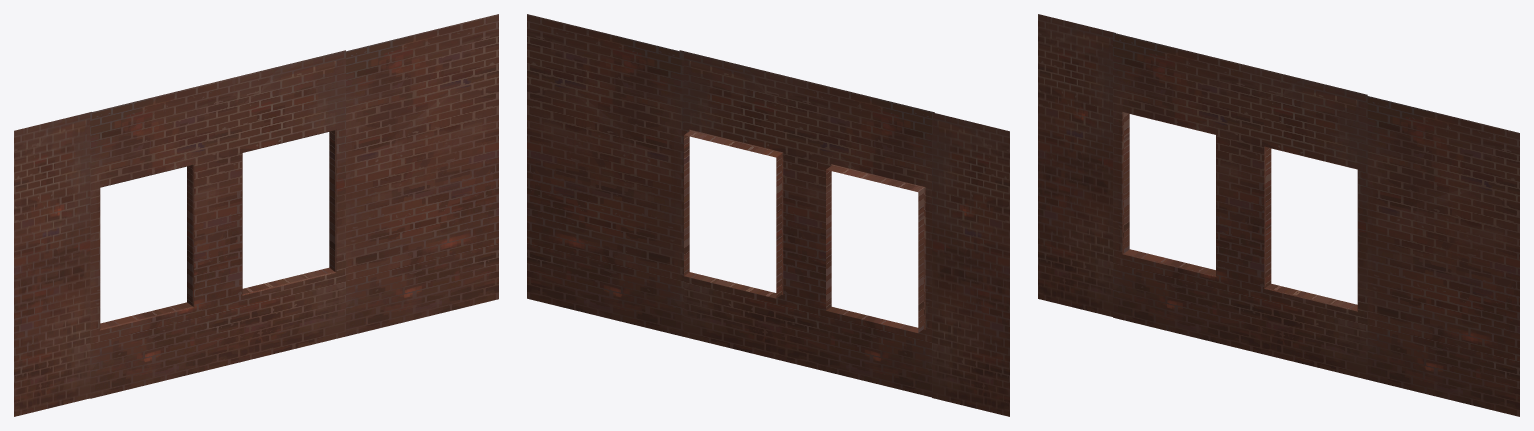
File: Muro_Fre.obj
3 renders of one model, left to right at view 1: azimuth 30°, elevation 25°; view 2: azimuth 150°, elevation 25°; view 3: azimuth 330°, elevation 25°, orthographic.
Parts seen in each view (by area): view 1: Muro_Fre; view 2: Muro_Fre; view 3: Muro_Fre.
Part boxes in pixels (left/top/right/bottom): Muro_Fre: left=14, top=14, right=498, bottom=416; Muro_Fre: left=527, top=14, right=1009, bottom=416; Muro_Fre: left=1038, top=14, right=1519, bottom=416.
Bounding box in the file's own units: 5.6 × 3.16 × 0.1233.
1 material, 1 textured.
